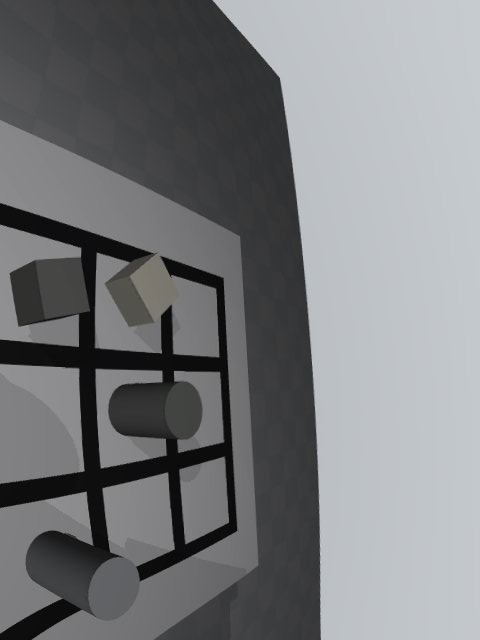can: (25, 530, 140, 621)
cube: (9, 257, 90, 327)
cylinder: (108, 381, 203, 439)
foam: (104, 252, 179, 327)
